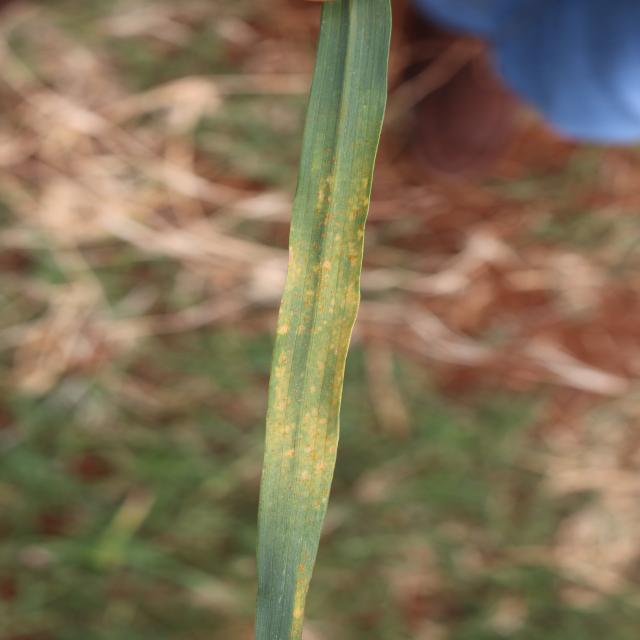Stripe Rust: (264, 169, 374, 490), (278, 551, 318, 629)
